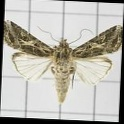Spodoptera litura: (2, 22, 121, 104)
